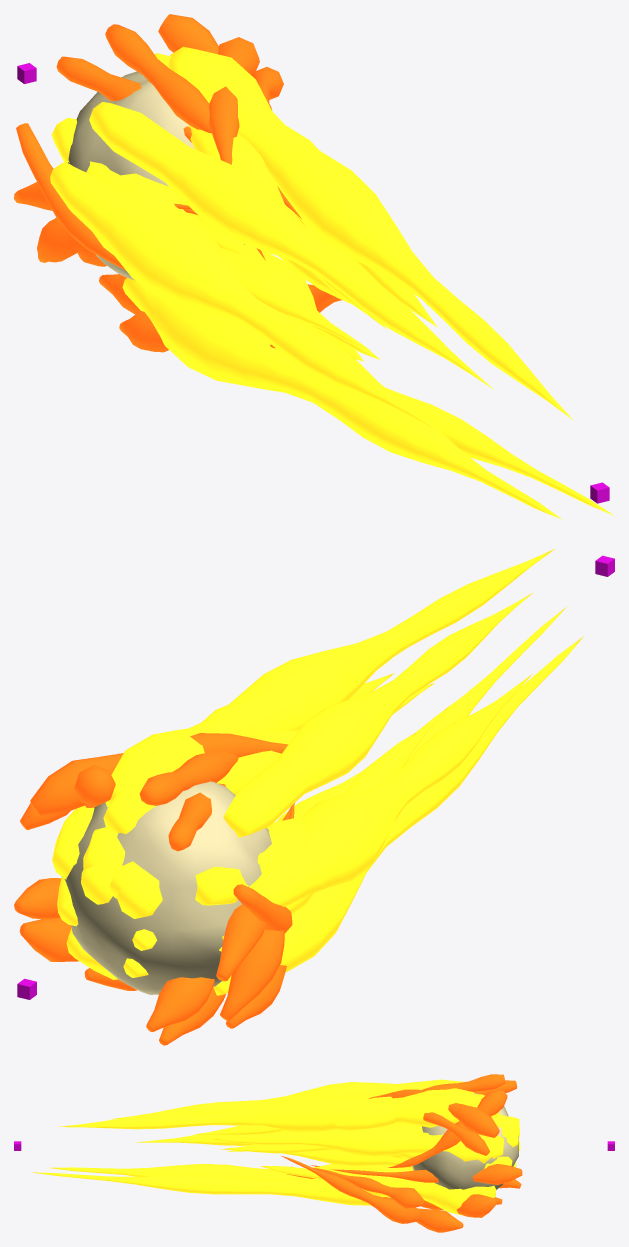
File: FireBlast.fbx
3 renders of one model, top to bottom at view 1: azimuth 30°, elevation 25°; view 2: azimuth 150°, elevation 25°; view 3: azimuth 270°, elevation 25°, orthographic. The views are drawn at different scales.
Parts seen in each view (by area): view 1: Flames, Wisps, Core; view 2: Flames, Wisps, Core; view 3: Flames, Wisps, Core.
Part boxes in pixels (x1,y1,x2,y2): Flames: (50,46,613,519); Wisps: (14,14,341,352); Core: (68,71,244,280); Flames: (52,549,583,995); Wisps: (14,733,294,1045); Core: (62,781,271,994); Flames: (31,1079,520,1215); Wisps: (281,1074,522,1232); Core: (412,1093,518,1189).
Size of the model in its own units: 1.97 by 2.06 by 8.1.
